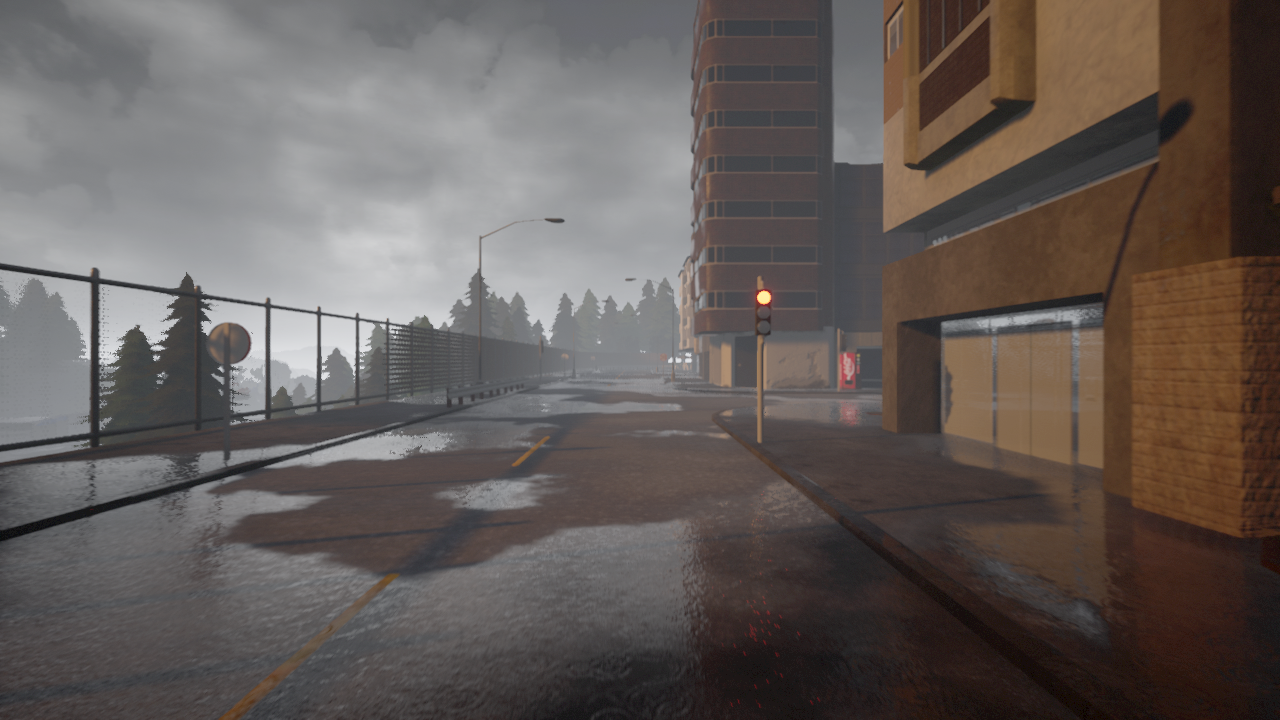red: (754, 287, 771, 337)
